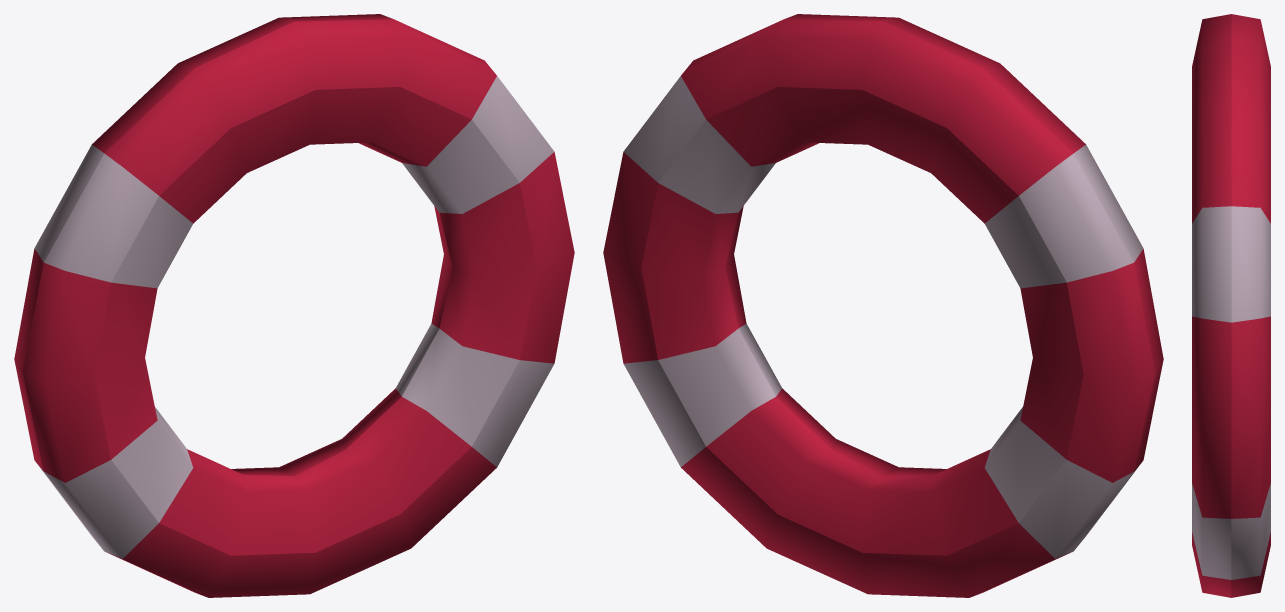
File: SafetyRing-Harbour_01.fbx
3 renders of one model, left to right at view 1: azimuth 30°, elevation 25°; view 2: azimuth 150°, elevation 25°; view 3: azimuth 270°, elevation 25°, orthographic. The views are drawn at different scales.
Visible parts, largest first — view 1: SafetyRing; view 2: SafetyRing; view 3: SafetyRing.
Part boxes in pixels (box(x1,y1,x2,y2)): SafetyRing: box(14, 14, 574, 597); SafetyRing: box(603, 14, 1163, 597); SafetyRing: box(1192, 14, 1270, 597).
Bounding box in the file's own units: 0.7114 × 0.7114 × 0.0952.
